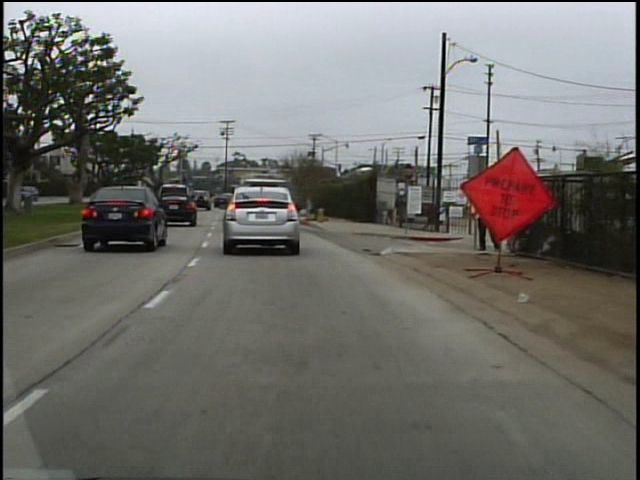person: (470, 181, 506, 256)
